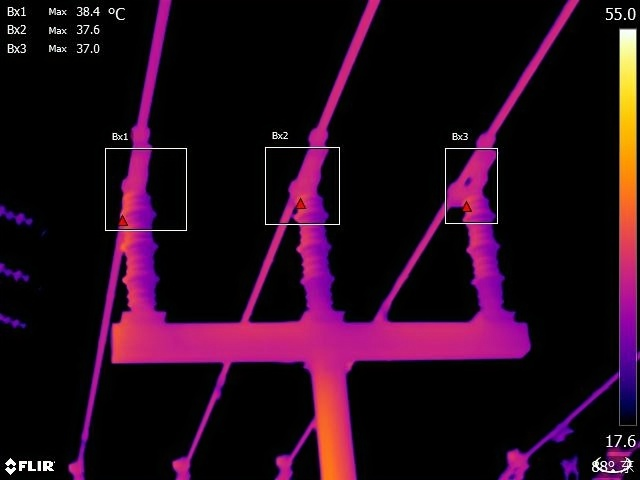post insulator: (458, 190, 515, 312), (115, 189, 167, 311), (291, 187, 342, 309)
